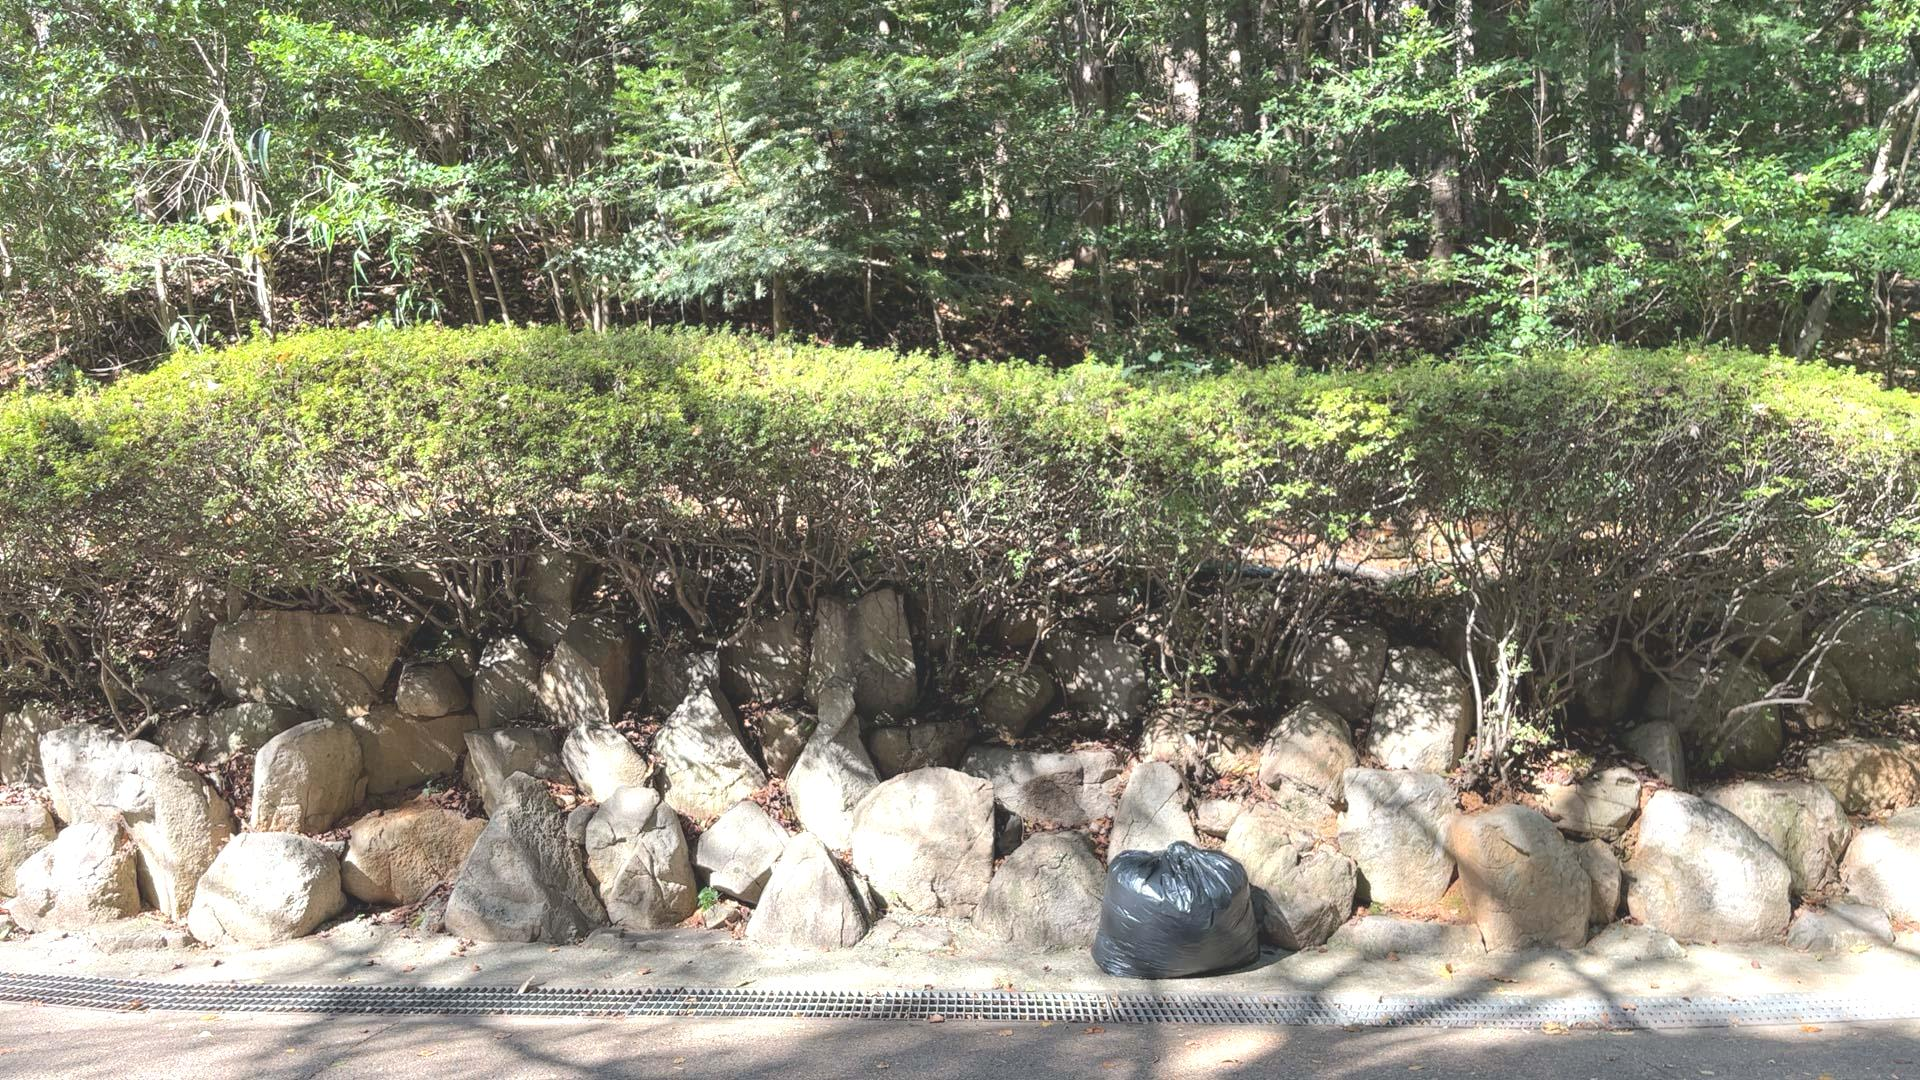black_bag: (1085, 833, 1267, 982)
